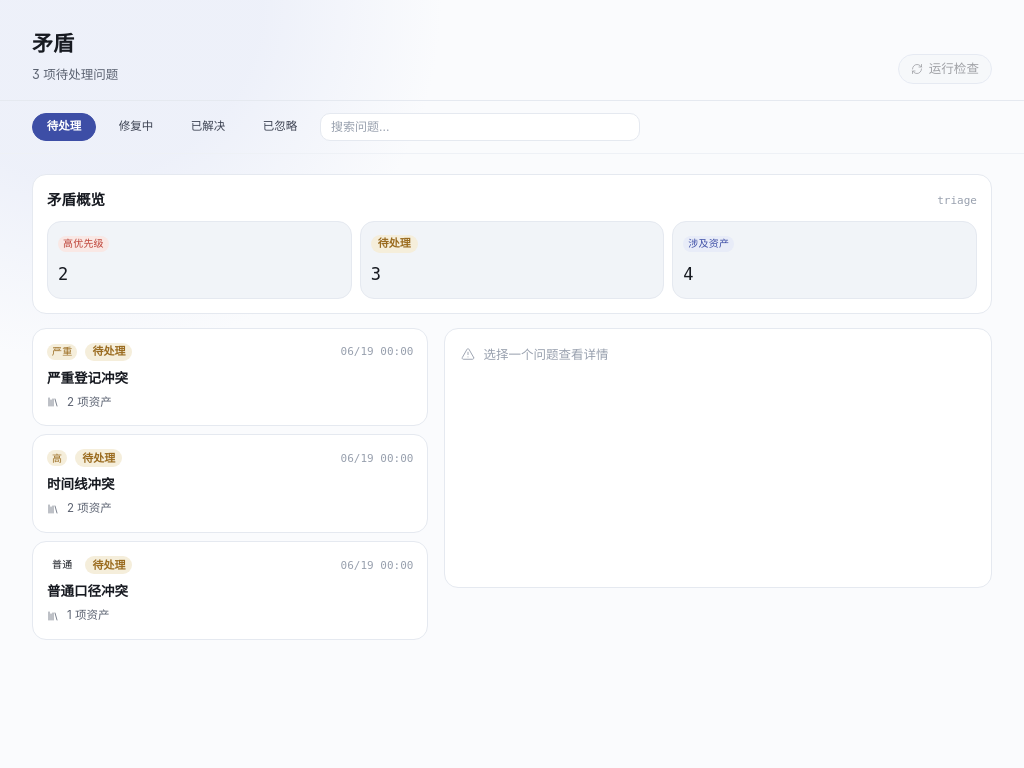
Test: ConsistencyIssuesPage › shows an issue summary before the master-detail workspace
This screenshot has width=1024, height=768.
Expected: the element labelled "矛盾概览" is shown, [32,174,992,314]
Expected: the element named "矛盾列表" is shown, [32,328,428,640]
Step 1. Type "时间线" into the field named "搜索一致性问题" → (480, 127), box [320,113,640,141]
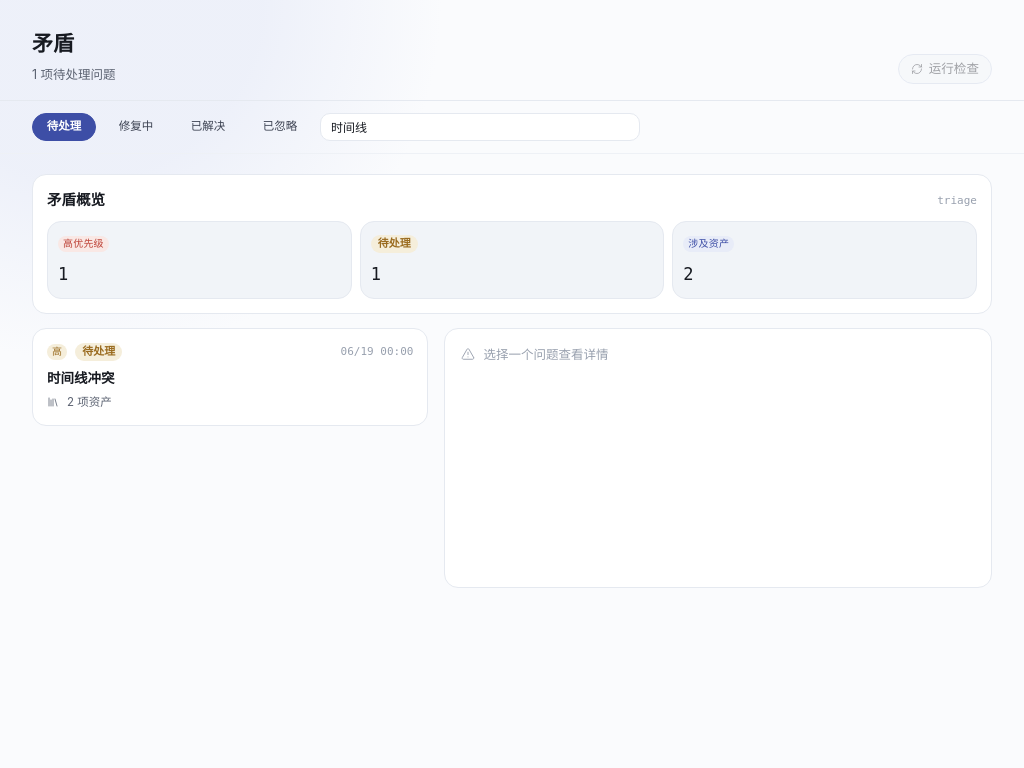
Now the text "1" below "高优先级" is shown, box [58,264,68,284]
Now the 2nd text "1" is shown, box [371,264,381,284]
Now the text "2" is shown, box [683,264,694,284]
